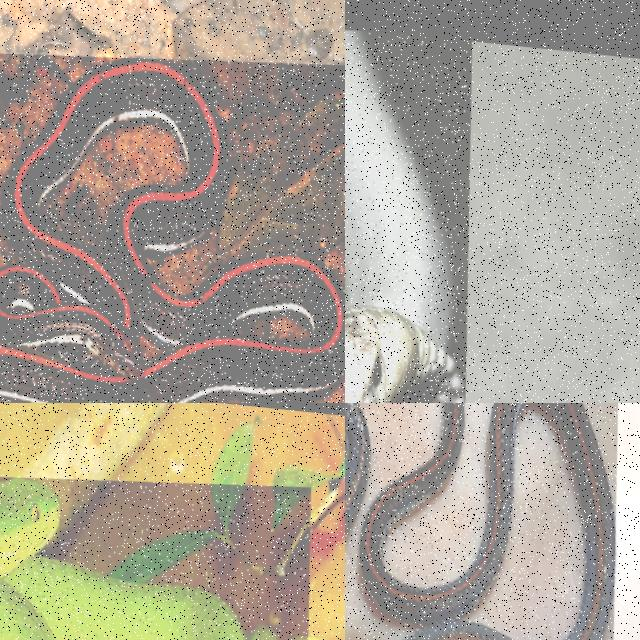Calliophis intestinalis: (0, 58, 344, 402), (360, 403, 525, 639)
Naja kaouthia: (345, 30, 463, 402)
Trimeresurus: (0, 479, 245, 639)
snake: (0, 58, 344, 402), (345, 30, 463, 402), (0, 479, 245, 639), (360, 403, 525, 639)
